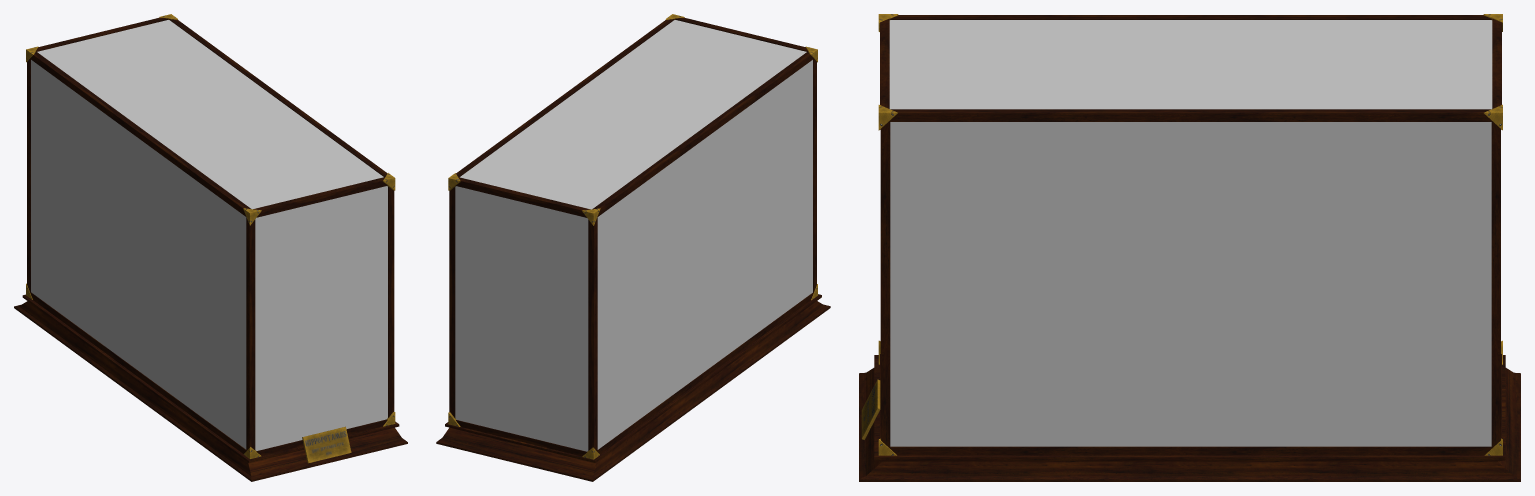
Rendered from hippopotamus.DAE.
The picture shows the model from 3 angles, left to right: view 1: azimuth 30°, elevation 25°; view 2: azimuth 150°, elevation 25°; view 3: azimuth 270°, elevation 25°; orthographic projection. The views are drawn at different scales.
Parts seen in each view (by area): view 1: Box005, Object002; view 2: Box005, Object002; view 3: Box005, Object002.
Boxes of the visible parts, left/top/right/bottom form: Box005: left=31, top=20, right=387, bottom=450; Object002: left=14, top=14, right=407, bottom=481; Box005: left=455, top=20, right=812, bottom=451; Object002: left=436, top=14, right=830, bottom=481; Box005: left=889, top=20, right=1492, bottom=446; Object002: left=859, top=14, right=1520, bottom=481.
Bounding box in the file's own units: 1.62 × 2.6 × 4.27.
